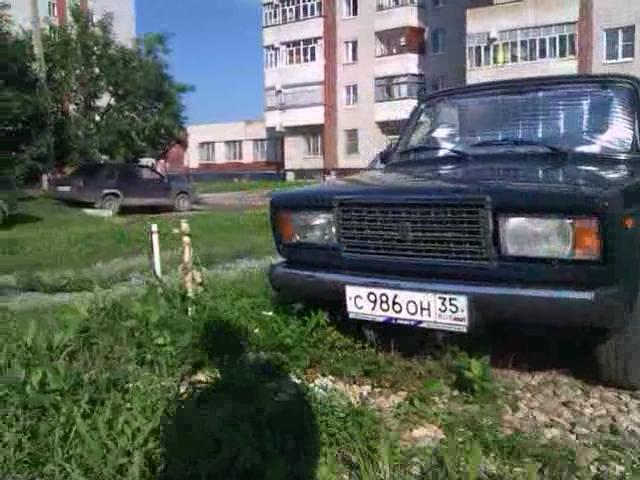car license plate: (342, 278, 469, 339)
